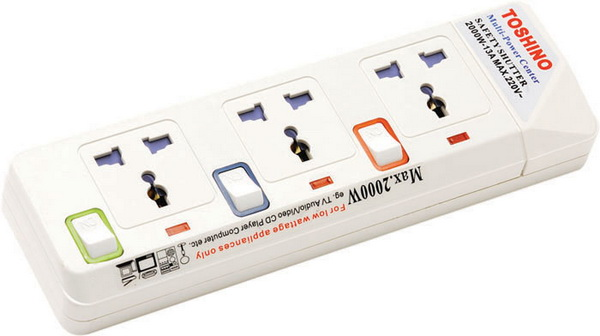Three_eye_plug: (1, 1, 600, 336)
